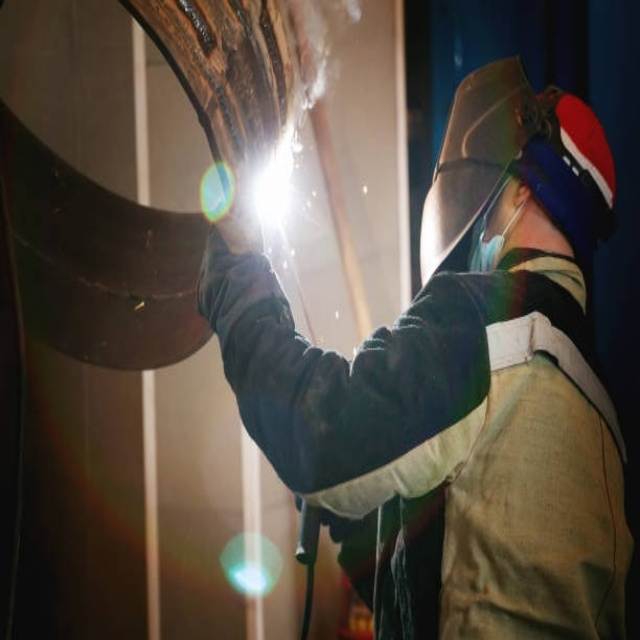Mascara: (466, 170, 529, 275)
